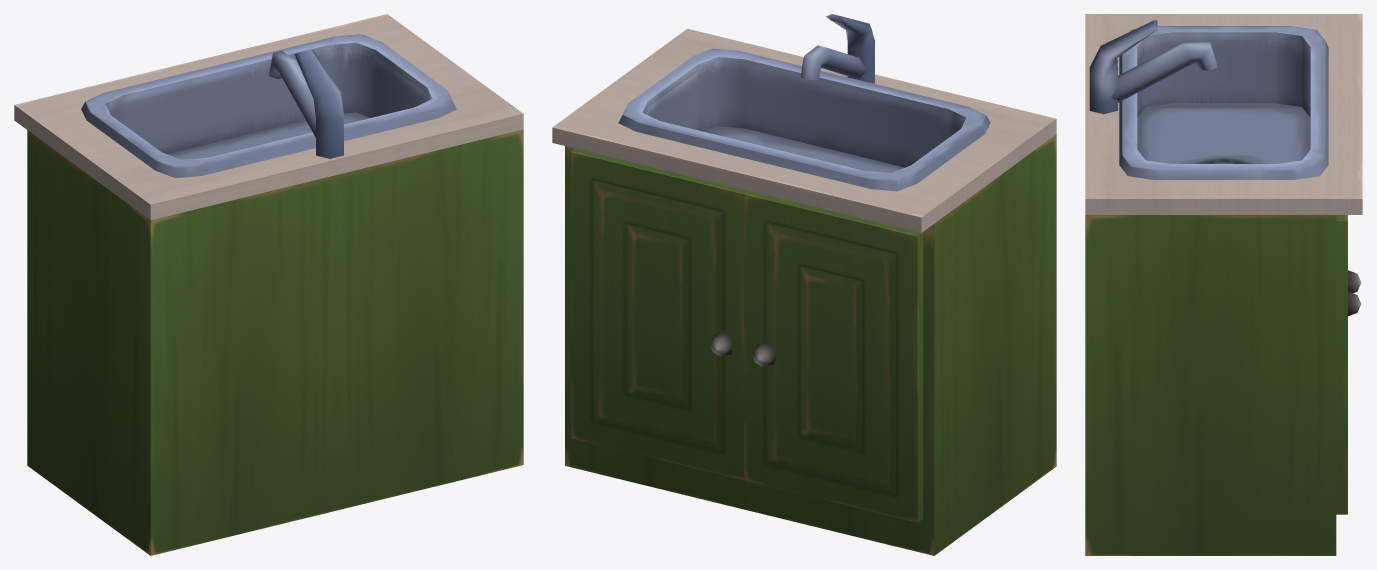
The model's file is KTB0110006.fbx.
3 renders of one model, left to right at view 1: azimuth 30°, elevation 25°; view 2: azimuth 150°, elevation 25°; view 3: azimuth 270°, elevation 25°, orthographic. The views are drawn at different scales.
Visible parts, largest first — view 1: smKTB0110006; view 2: smKTB0110006; view 3: smKTB0110006.
Boxes of the visible parts, x1,y1,x2,y2 form: smKTB0110006: (14,14,523,555); smKTB0110006: (552,14,1056,555); smKTB0110006: (1085,14,1362,555).
Size of the model in its own units: 100 by 111 by 63.32.
Materials: 1 (1 with a texture image).
